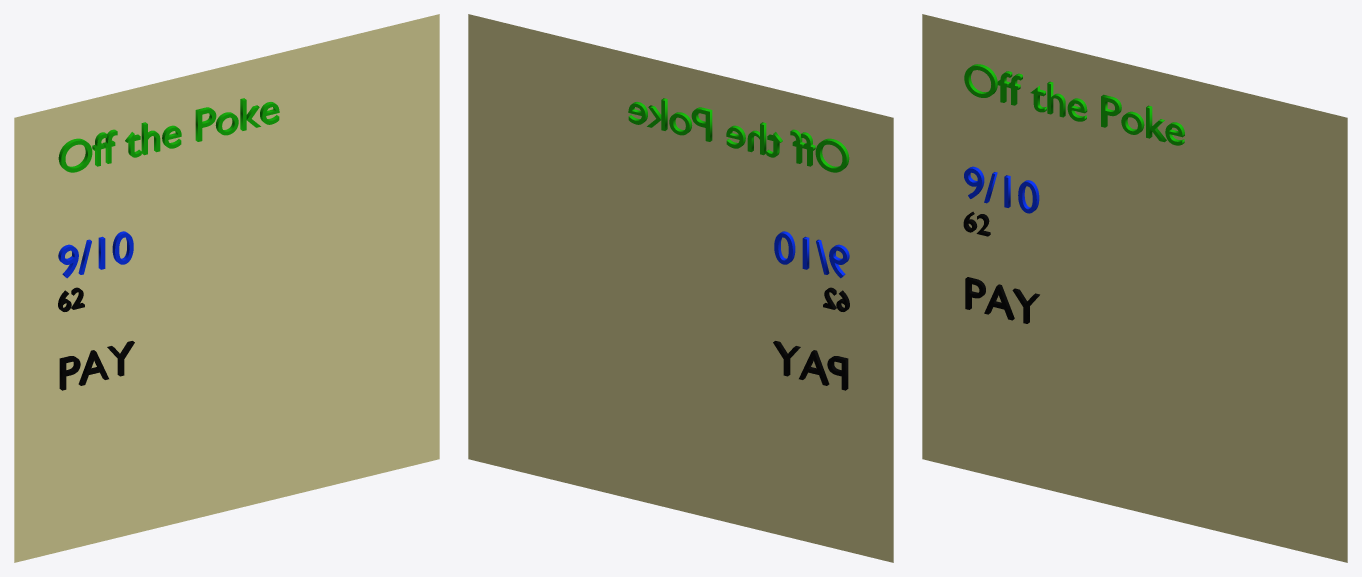
Rendered from off-the-poke-milano.gltf.
The picture shows the model from 3 angles, left to right: view 1: azimuth 30°, elevation 25°; view 2: azimuth 150°, elevation 25°; view 3: azimuth 330°, elevation 25°; orthographic projection.
Parts seen in each view (by area): view 1: background, name, mark, pay; view 2: background, name, mark, pay; view 3: background, name, mark, pay.
Boxes of the visible parts, x1=… form: background: x1=14, y1=14, x2=439, y2=562; name: x1=58, y1=98, x2=279, y2=172; mark: x1=58, y1=231, x2=133, y2=278; pay: x1=59, y1=341, x2=134, y2=390; background: x1=468, y1=14, x2=893, y2=562; name: x1=628, y1=98, x2=849, y2=172; mark: x1=774, y1=231, x2=849, y2=278; pay: x1=773, y1=341, x2=848, y2=390; background: x1=922, y1=14, x2=1347, y2=562; name: x1=964, y1=64, x2=1184, y2=145; mark: x1=964, y1=166, x2=1039, y2=213; pay: x1=965, y1=277, x2=1039, y2=323.
Bounding box in the file's own units: 2 × 2 × 0.04.
